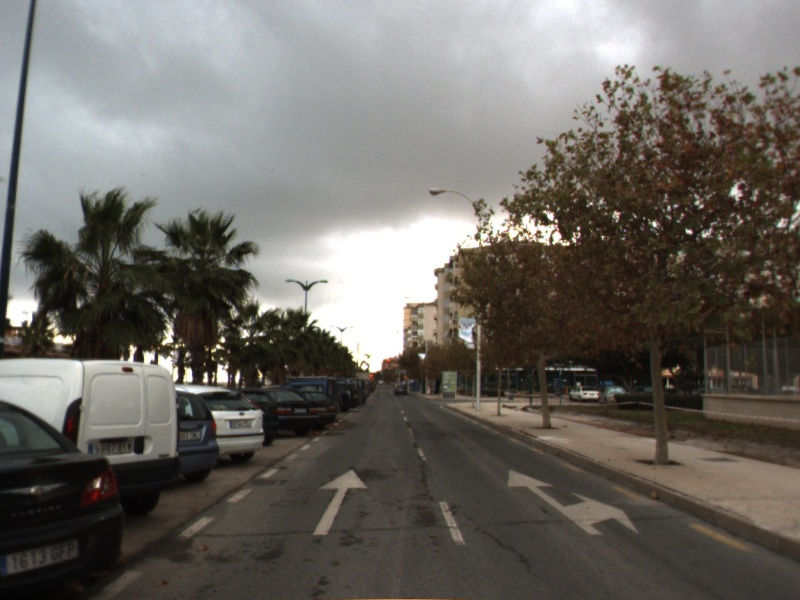STRAIGHT: (311, 467, 370, 537)
STRAIGHT_RIGHT: (507, 468, 641, 536)
